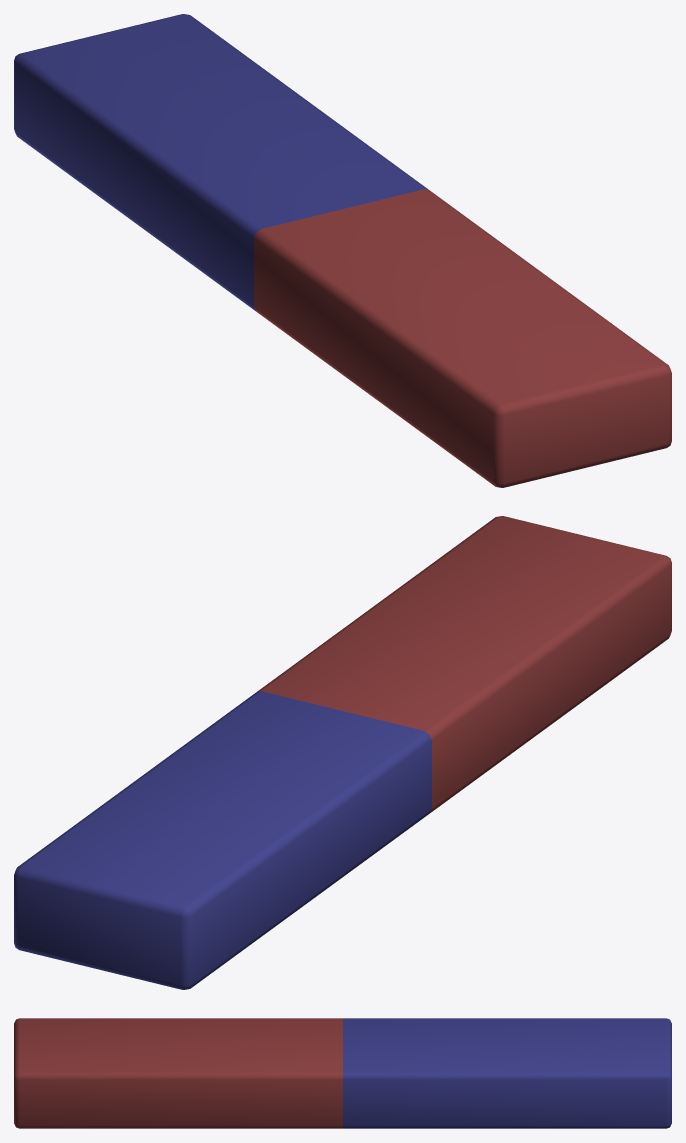
Rendered from Magnet.fbx.
3 views of the same model, one above another, from view 1: azimuth 30°, elevation 25°; view 2: azimuth 150°, elevation 25°; view 3: azimuth 270°, elevation 25° (orthographic). The views are drawn at different scales.
Visible parts, largest first — view 1: Magnet Left.001; view 2: Magnet Left.001; view 3: Magnet Left.001.
Boxes of the visible parts, x1,y1,x2,y2 form: Magnet Left.001: (14, 14, 671, 487); Magnet Left.001: (14, 516, 671, 989); Magnet Left.001: (14, 1018, 671, 1128).
Size of the model in its own units: 23.57 by 10.62 by 112.
